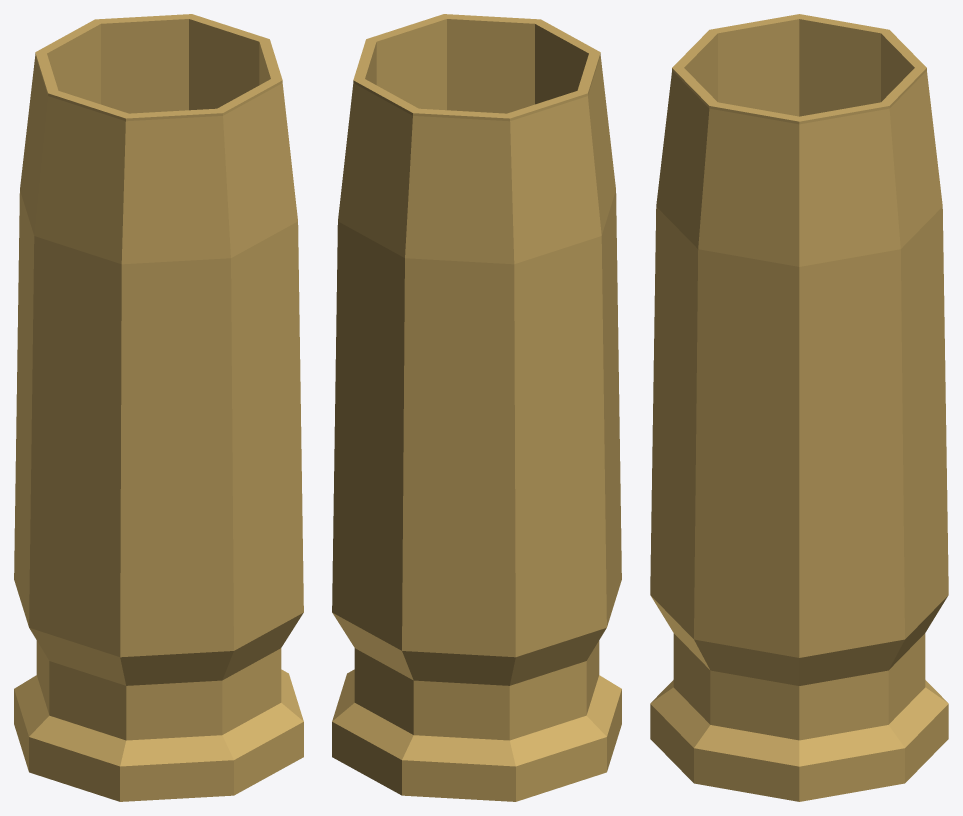
File: case_762x25.glb
The picture shows the model from 3 angles, left to right: view 1: azimuth 30°, elevation 25°; view 2: azimuth 150°, elevation 25°; view 3: azimuth 270°, elevation 25°; orthographic projection.
Visible parts, largest first — view 1: case_762x25; view 2: case_762x25; view 3: case_762x25.
Part boxes in pixels (x1,y1,x2,y2): case_762x25: (14,14,303,801); case_762x25: (332,14,621,801); case_762x25: (650,14,948,801).
Bounding box in the file's own units: 0.00996 × 0.0247 × 0.00996.
